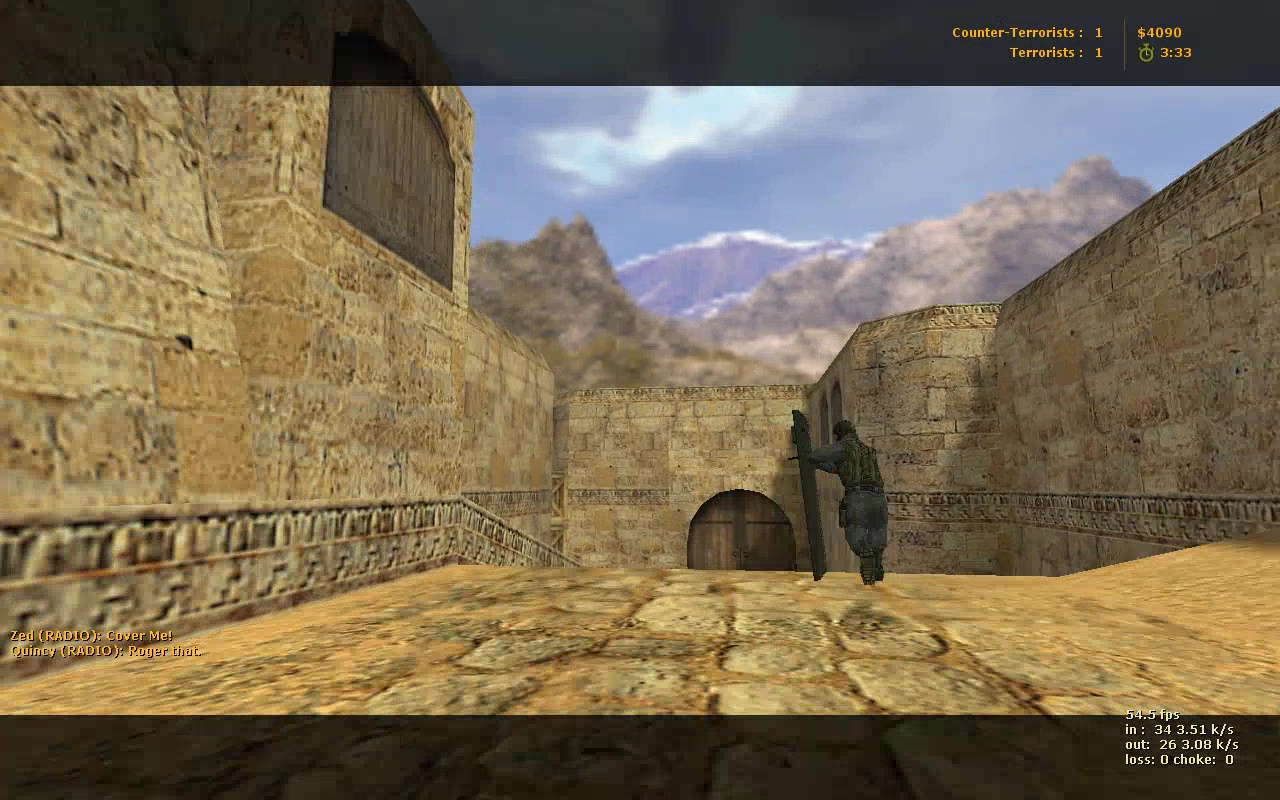ct: (793, 410, 889, 586)
